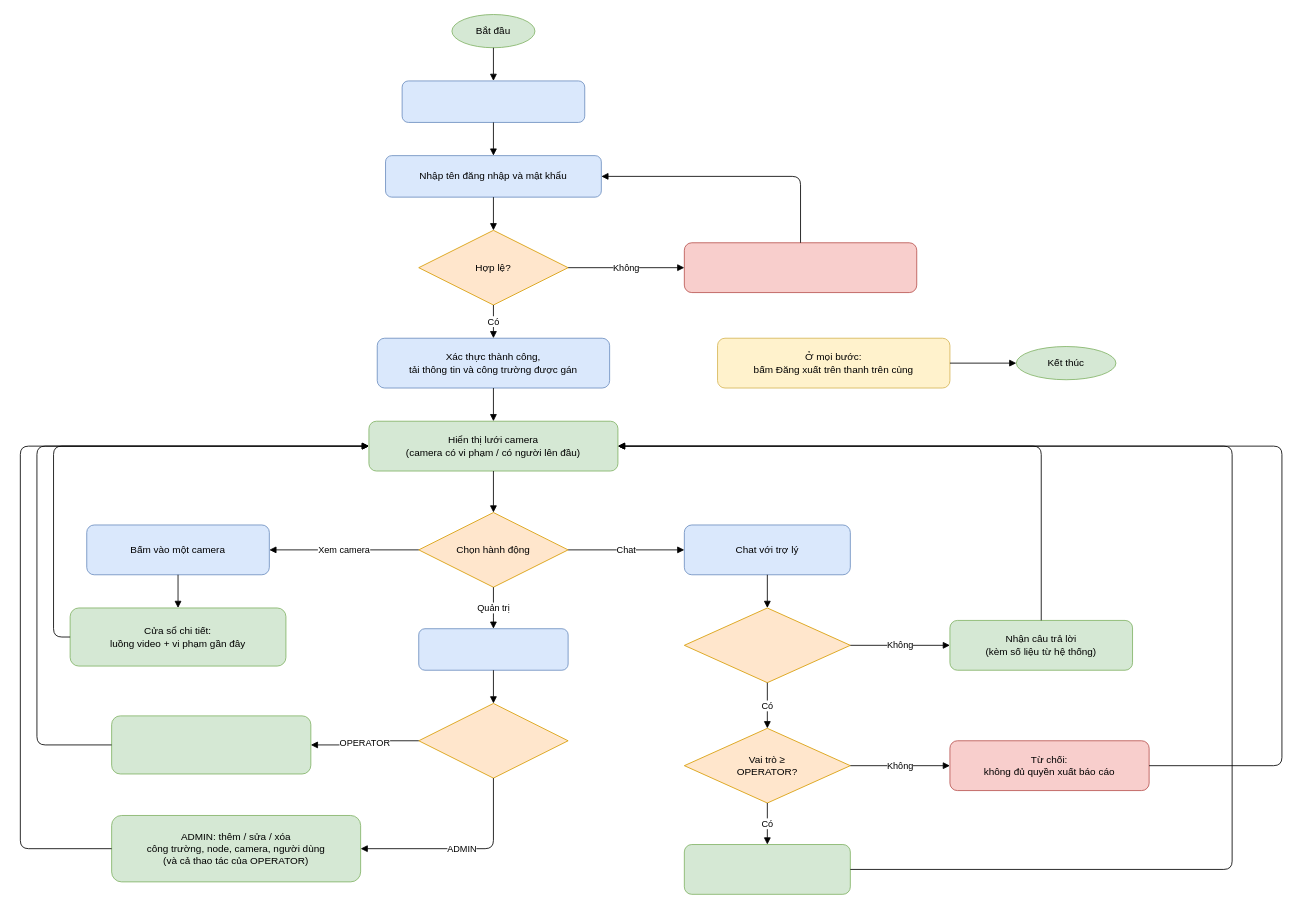
The diagram is 1303 pixels wide and 909 high, and some of its shapes have lost their labels. The centre of each missing label's shape, as x and y in pixels:
Báo lỗi 'Sai tên đăng nhập hoặc mật khẩu': pixel 800 267
Mở hệ thống: pixel 493 101
OPERATOR: tải video lên camera, đồng bộ thư mục video: pixel 211 744
Trợ lý lập báo cáo, mở HTML / in PDF: pixel 767 869
Vai trò?: pixel 493 740
Vào trang Quản trị: pixel 493 649
Yêu cầu xuất báo cáo?: pixel 767 645
